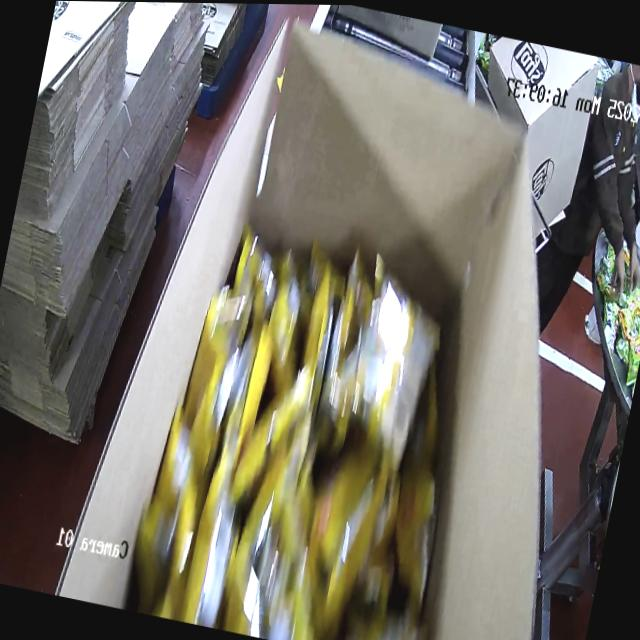SALTED: (115, 215, 465, 640)
